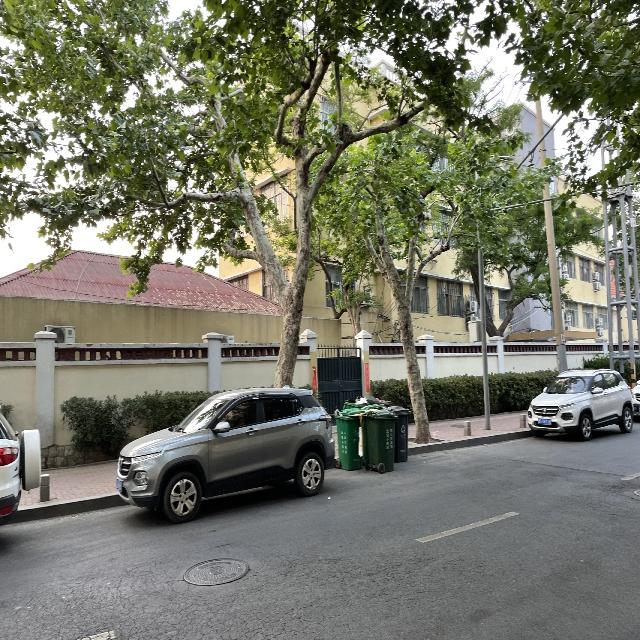garbage_bin: (363, 409, 397, 471), (387, 405, 410, 462)
overflow: (333, 407, 364, 469)
